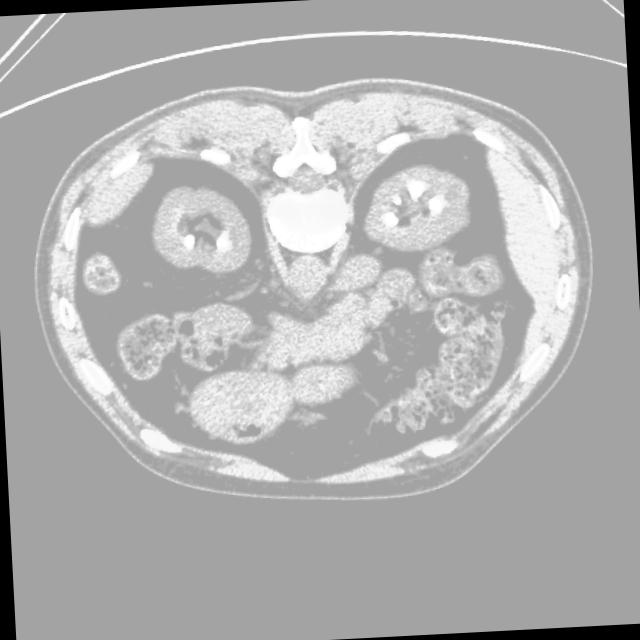STONE: (85, 143, 486, 427)
